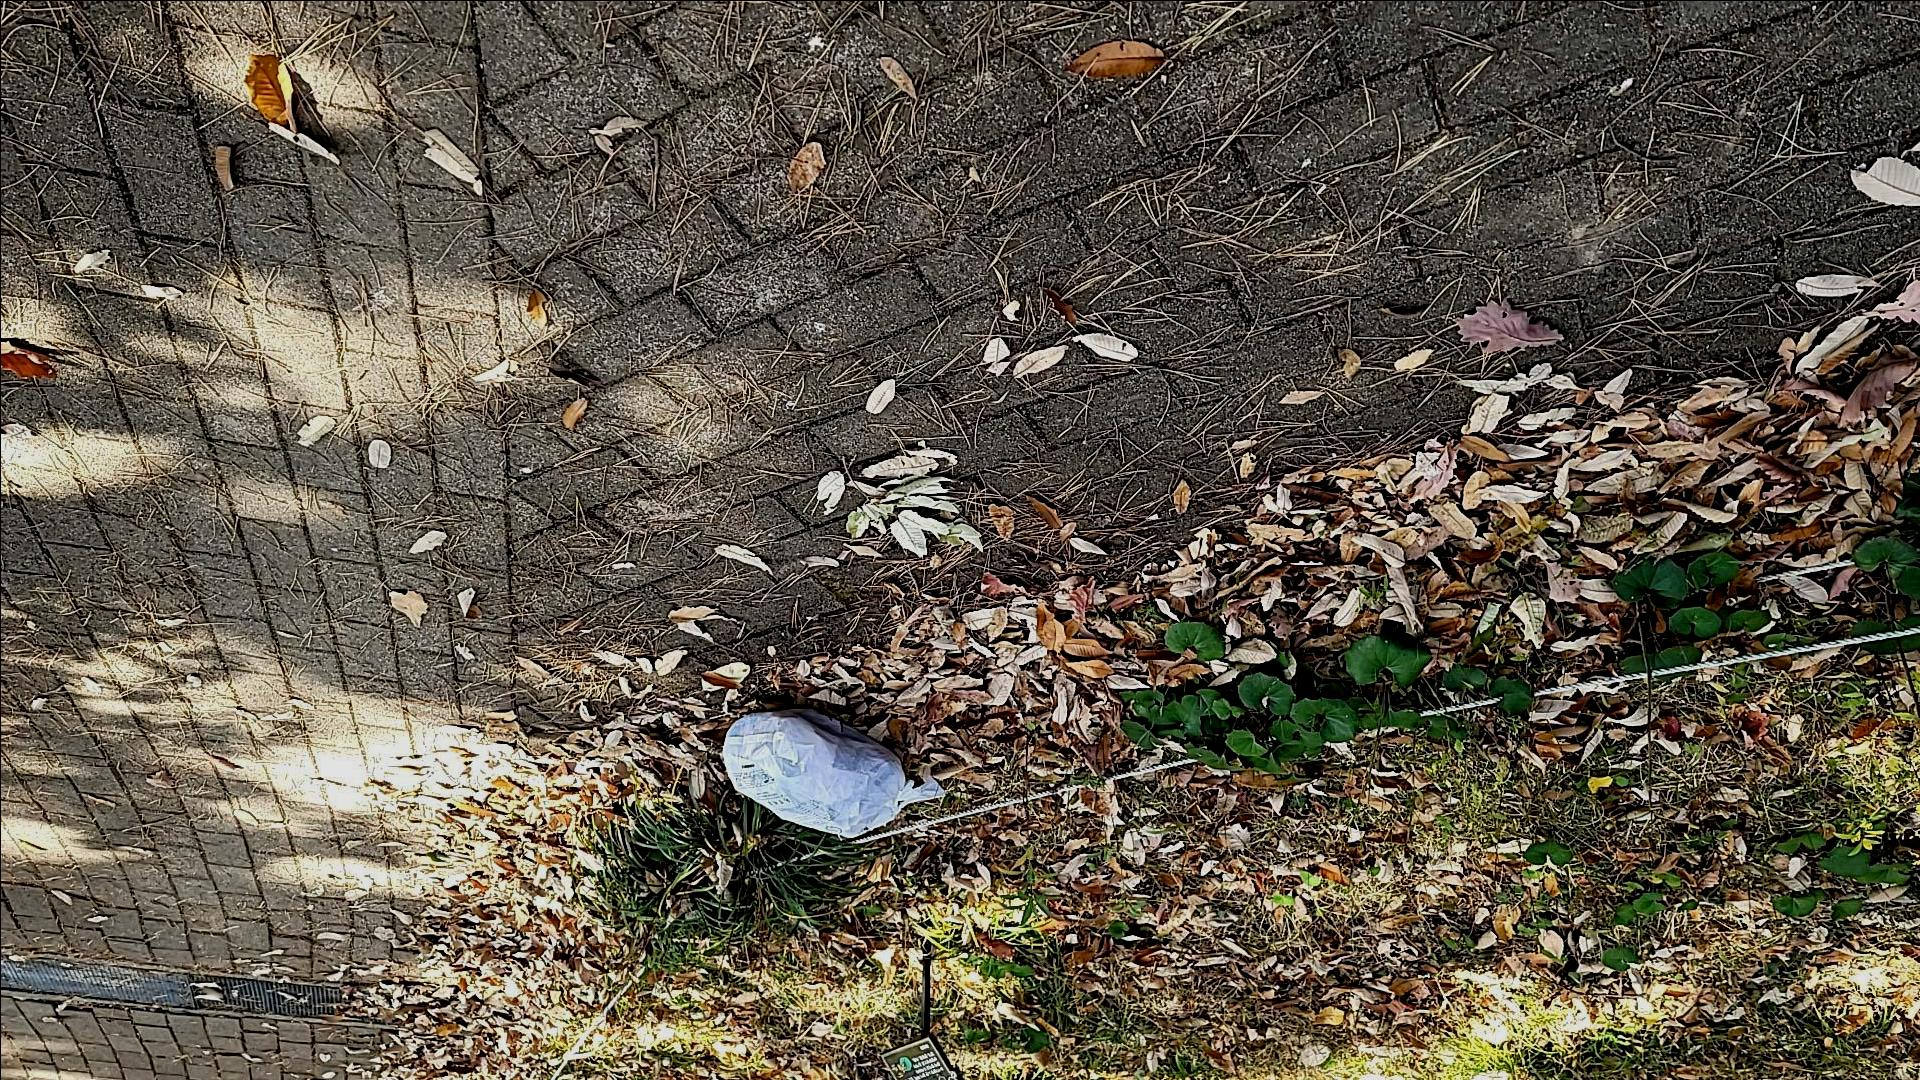white_bag: (715, 691, 960, 848)
